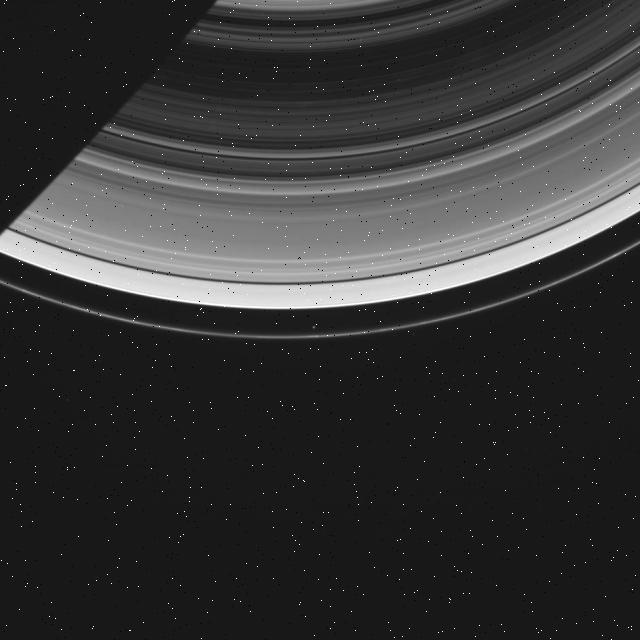Saturn: (0, 0, 640, 343)
